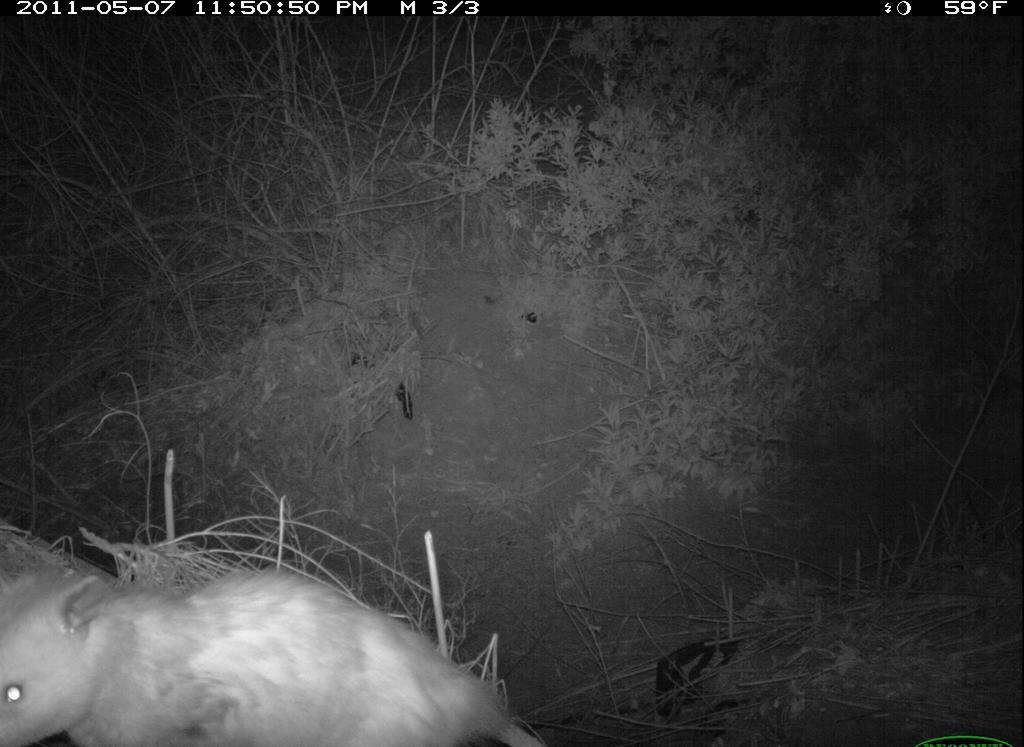opossum: (6, 520, 574, 747)
